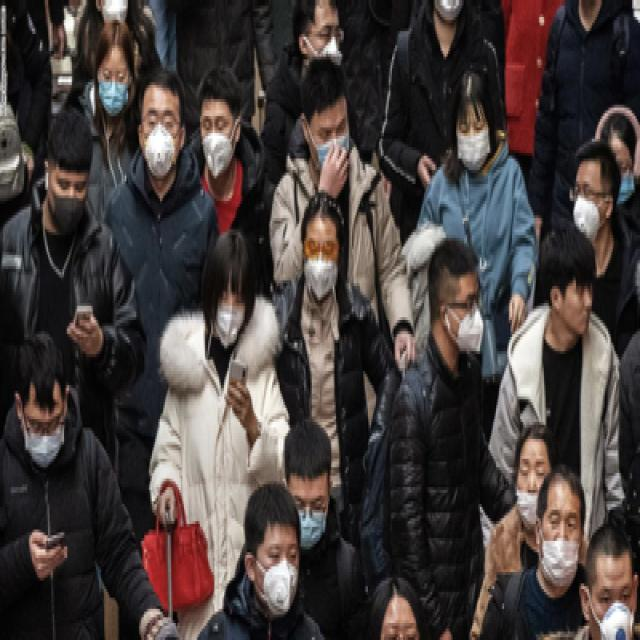mask: (540, 501, 586, 586), (258, 536, 304, 618), (46, 170, 90, 235), (142, 102, 180, 176), (22, 402, 64, 467), (288, 484, 330, 546), (302, 230, 340, 298), (590, 578, 636, 634), (200, 104, 235, 176), (312, 110, 352, 170), (456, 283, 488, 354), (213, 278, 248, 342), (456, 110, 493, 170), (96, 60, 133, 116), (572, 172, 602, 240), (310, 17, 348, 65), (616, 150, 637, 207)
no_mask: (517, 451, 552, 526), (565, 274, 597, 334)
